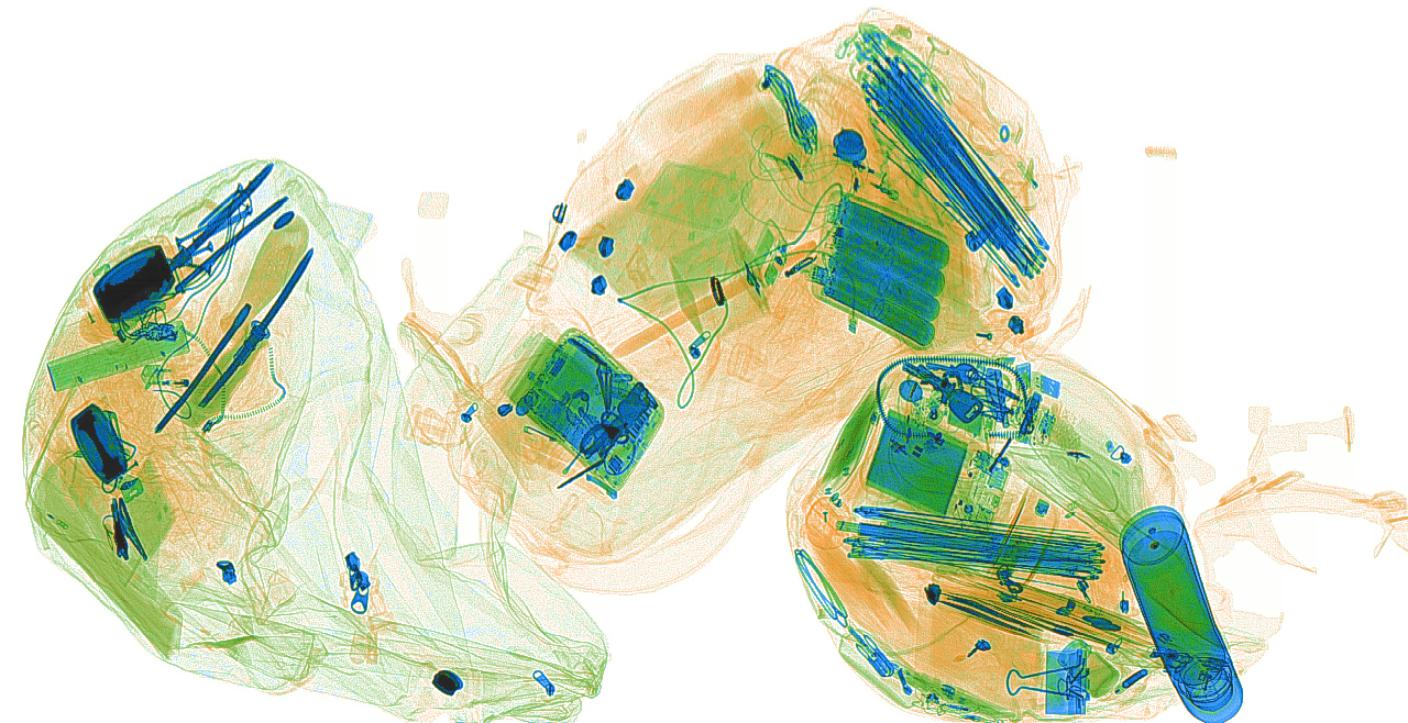USBFlashDisk: (845, 627, 896, 681)
battery: (806, 186, 954, 350)
lighter: (792, 137, 903, 207), (136, 359, 244, 391)
